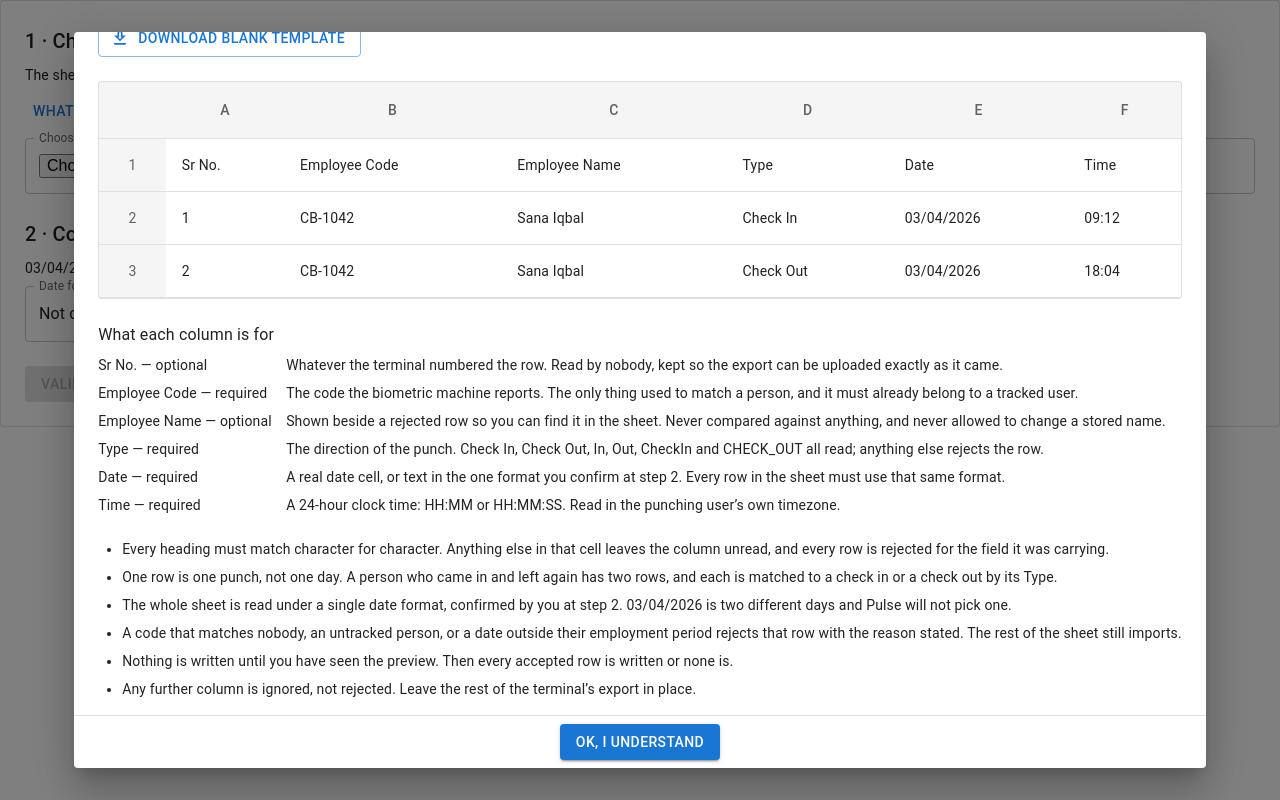
Test: AttendanceImport › explains why the format has to be confirmed rather than inferred
(page scrolled)
Click the button "Ok, I understand" at point(640, 742), box [560, 724, 720, 760]
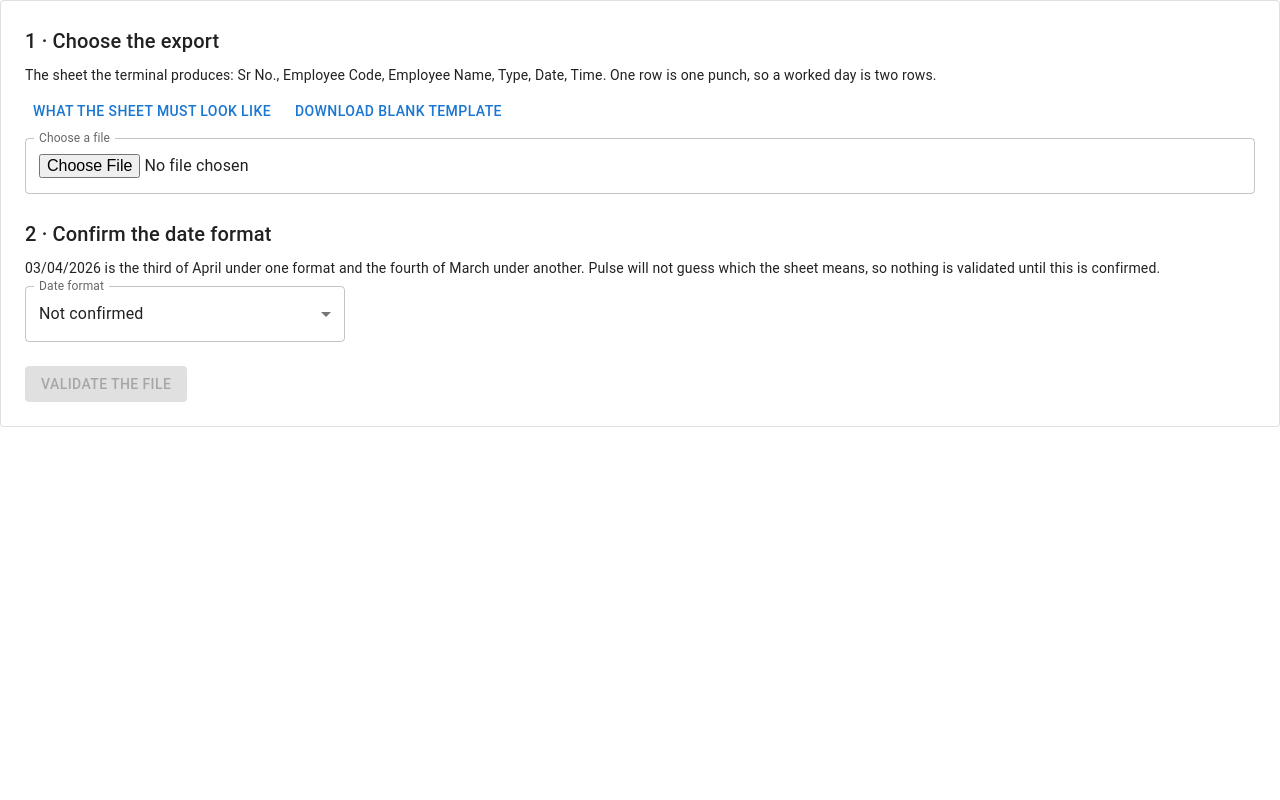
Check: the text "03/04/2026" is shown, box [25, 260, 1160, 276]
Check: the dialog is gone
